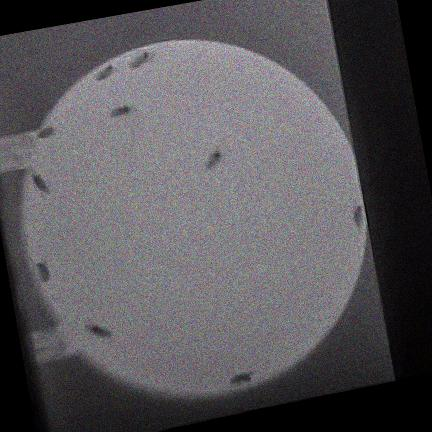fly: (129, 51, 153, 68), (205, 149, 223, 171), (31, 173, 49, 193), (86, 325, 113, 338), (109, 104, 134, 117), (96, 64, 113, 81), (37, 260, 50, 282), (231, 372, 253, 385), (36, 126, 56, 139), (353, 204, 364, 227)
